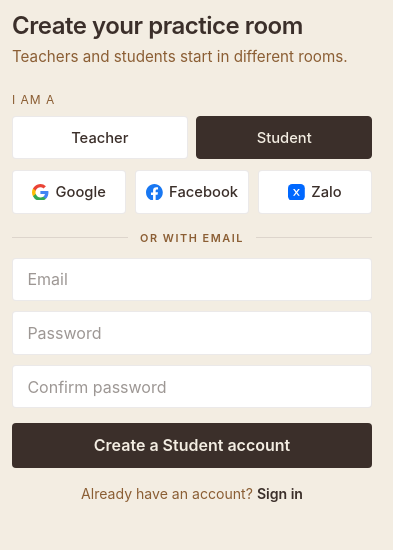
Scenario: SignupForm › does not create an account when the passwords differ
In the field labelled "Email": (192, 279) x1=12 y1=258 x2=372 y2=301, type "an@studio.test"
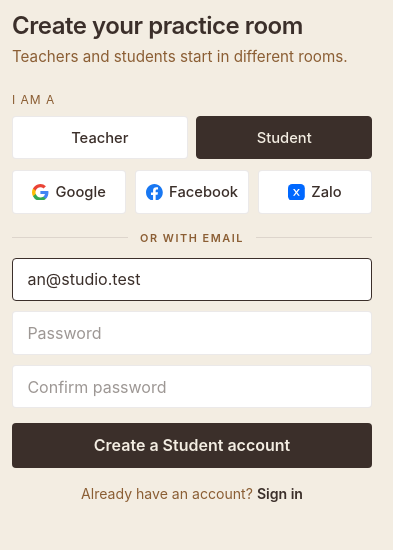
In the password field labelled "Password": (192, 333) x1=12 y1=311 x2=372 y2=355, type "secret1"
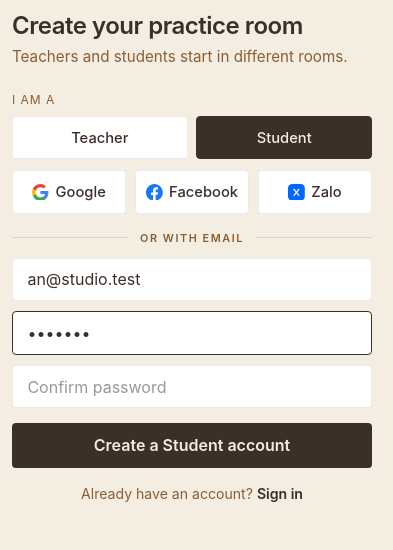
In the password field labelled "Confirm password": (192, 387) x1=12 y1=365 x2=372 y2=408, type "secret2"
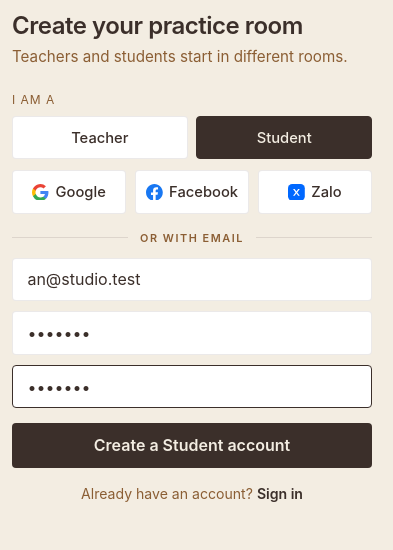
Click the button "Create a Student account": (192, 445) x1=12 y1=423 x2=372 y2=468
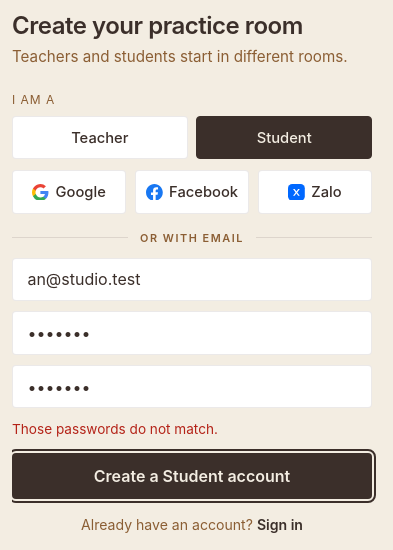
Expected: the text "Those passwords do not match." is shown, x1=12 y1=421 x2=218 y2=437
